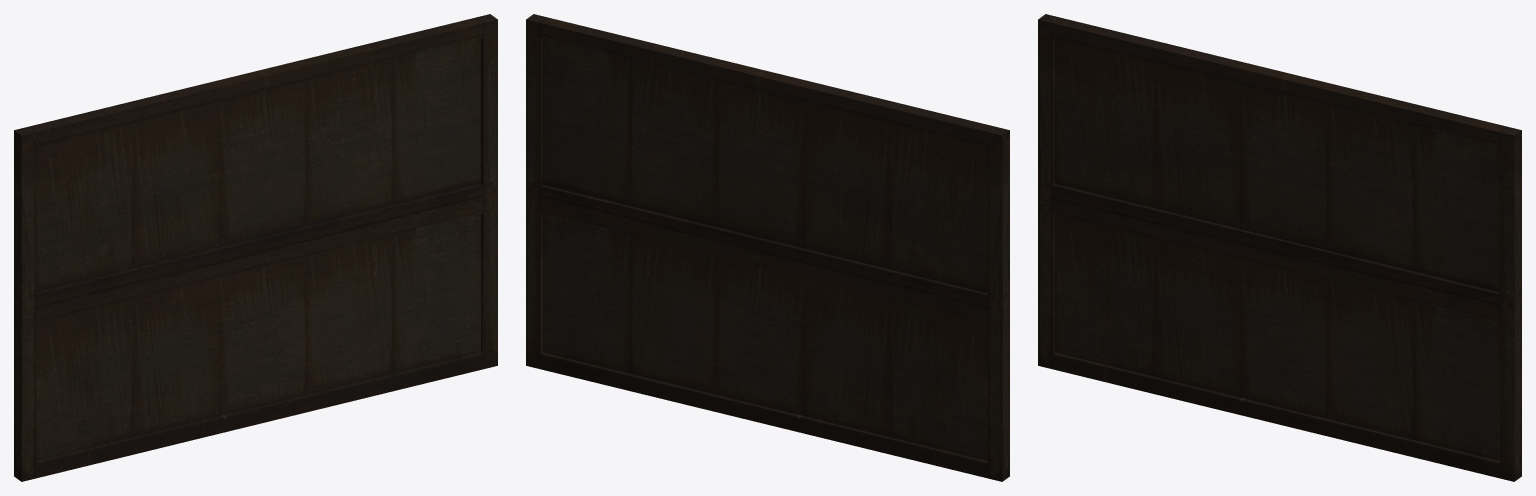
File: metal_fence_hr_1.fbx
3 views of the same model, side by side, from view 1: azimuth 30°, elevation 25°; view 2: azimuth 150°, elevation 25°; view 3: azimuth 330°, elevation 25° (orthographic).
Visible parts, largest first — view 1: metal_fence_hr_1; view 2: metal_fence_hr_1; view 3: metal_fence_hr_1.
Boxes of the visible parts, x1,y1,x2,y2 form: metal_fence_hr_1: [14, 14, 497, 481]; metal_fence_hr_1: [526, 14, 1009, 481]; metal_fence_hr_1: [1038, 14, 1521, 481].
Bounding box in the file's own units: 3.6 × 0.1 × 2.5.
